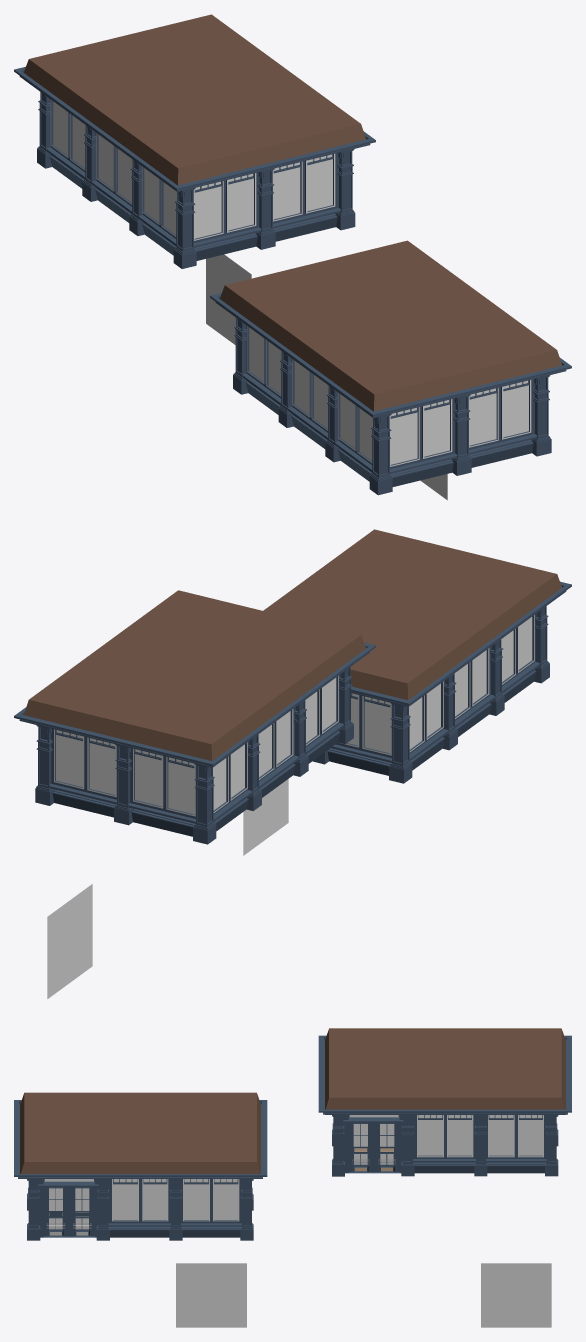
The model's file is restaurant.fbx.
3 renders of one model, top to bottom at view 1: azimuth 30°, elevation 25°; view 2: azimuth 150°, elevation 25°; view 3: azimuth 270°, elevation 25°, orthographic. The views are drawn at different scales.
Visible parts, largest first — view 1: Plane.001, Plane.060, Plane.062, Plane.047, Plane.050, Plane.064, Plane.048, Plane.065, Plane.002, Plane.055, Plane.051, Plane.054 (+3 smaller); view 2: Plane.001, Plane.060, Plane.002, Plane.063, Plane.064, Plane.048, Plane.065, Plane.034, Plane.050, Plane.059, Plane.055, Plane.056 (+1 smaller); view 3: Plane.001, Plane.060, Plane.002, Plane.034, Plane.033, Plane.061, Plane.035, Plane.050, Plane.051, Plane.049, Plane.052, Plane.053.
Boxes of the visible parts, bbox=[...] form: Plane.001: bbox=[14, 14, 375, 268]; Plane.060: bbox=[220, 240, 561, 411]; Plane.062: bbox=[468, 379, 536, 467]; Plane.047: bbox=[389, 398, 457, 486]; Plane.050: bbox=[210, 293, 571, 418]; Plane.064: bbox=[285, 359, 330, 448]; Plane.048: bbox=[239, 325, 284, 414]; Plane.065: bbox=[330, 392, 375, 481]; Plane.002: bbox=[206, 254, 251, 344]; Plane.055: bbox=[369, 414, 392, 495]; Plane.051: bbox=[531, 375, 551, 456]; Plane.054: bbox=[451, 394, 471, 475]; Plane.001: bbox=[14, 590, 375, 844]; Plane.060: bbox=[263, 529, 561, 700]; Plane.002: bbox=[47, 884, 92, 998]; Plane.063: bbox=[327, 693, 398, 775]; Plane.064: bbox=[451, 646, 496, 736]; Plane.048: bbox=[405, 680, 451, 770]; Plane.065: bbox=[497, 613, 542, 702]; Plane.034: bbox=[243, 779, 288, 855]; Plane.050: bbox=[351, 581, 571, 706]; Plane.059: bbox=[389, 702, 412, 783]; Plane.055: bbox=[534, 606, 549, 683]; Plane.056: bbox=[489, 639, 504, 715]; Plane.001: bbox=[318, 1028, 571, 1176]; Plane.060: bbox=[20, 1092, 260, 1173]; Plane.002: bbox=[481, 1263, 551, 1327]; Plane.034: bbox=[176, 1263, 246, 1327]; Plane.033: bbox=[108, 1179, 171, 1237]; Plane.061: bbox=[180, 1179, 242, 1237]; Plane.035: bbox=[38, 1179, 98, 1237]; Plane.050: bbox=[14, 1100, 267, 1178]; Plane.051: bbox=[27, 1179, 40, 1240]; Plane.049: bbox=[96, 1179, 109, 1240]; Plane.052: bbox=[240, 1179, 253, 1240]; Plane.053: bbox=[169, 1179, 182, 1240].
Bounding box in the file's own units: 252 × 365 × 787.
